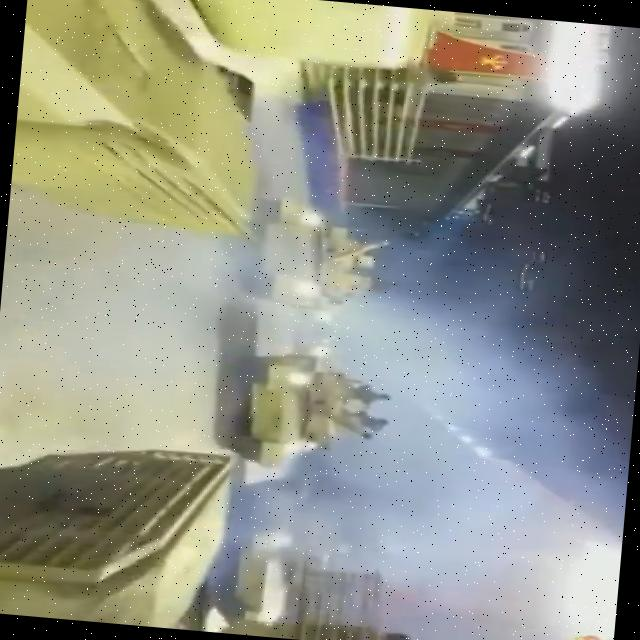north tank: (202, 312, 414, 484), (228, 179, 429, 314)
